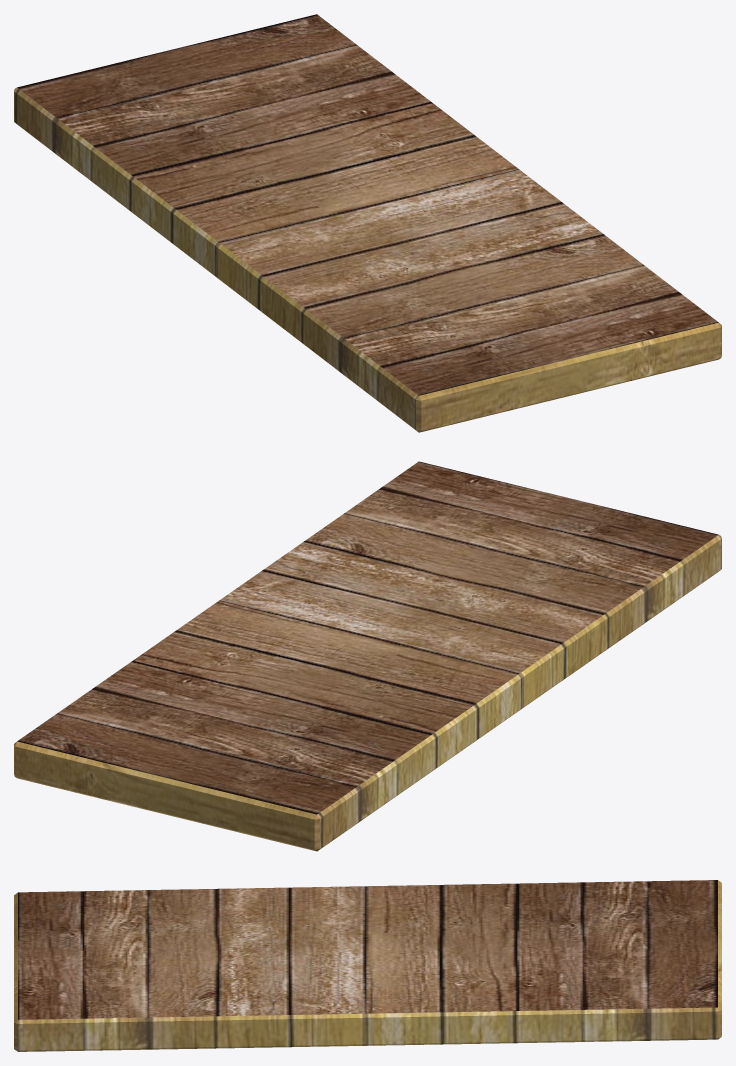
The picture shows the model from 3 angles, top to bottom: view 1: azimuth 30°, elevation 25°; view 2: azimuth 150°, elevation 25°; view 3: azimuth 270°, elevation 25°; orthographic projection. The views are drawn at different scales.
Visible parts, largest first — view 1: pCube754; view 2: pCube754; view 3: pCube754.
Boxes of the visible parts, box(x1,y1,x2,y2) form: pCube754: box(14, 14, 721, 432); pCube754: box(14, 461, 721, 851); pCube754: box(14, 880, 721, 1051).
Bounding box in the file's own units: 23.99 × 3.83 × 55.2.
